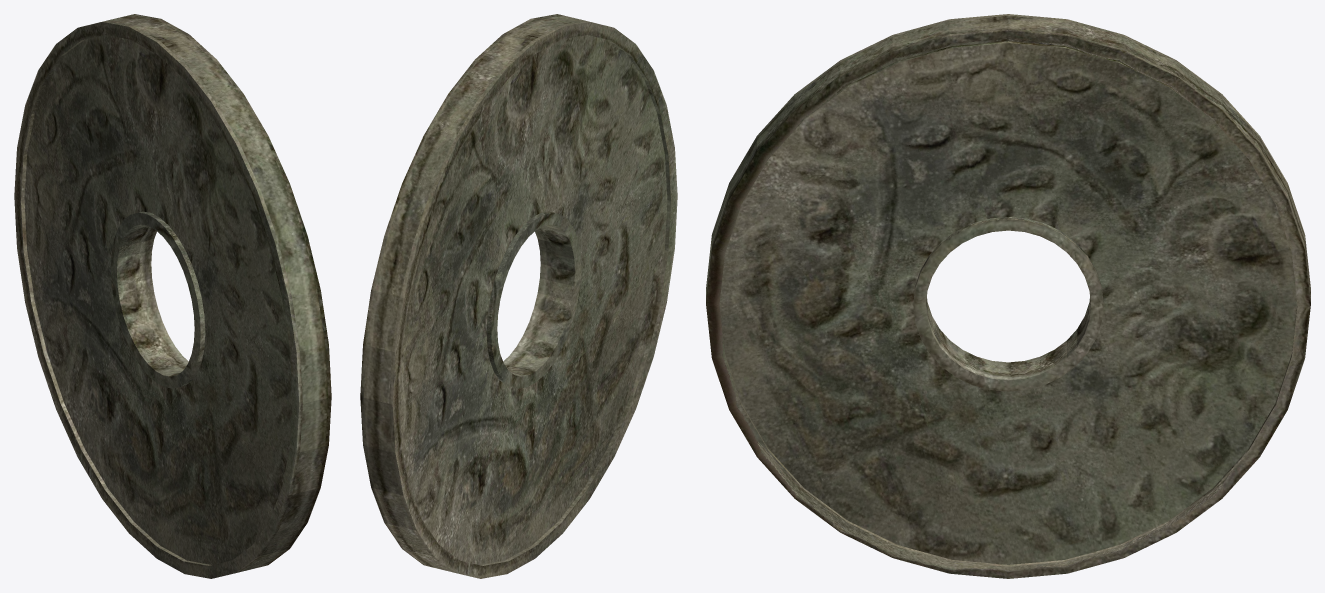
The model's file is coin.fbx.
3 renders of one model, left to right at view 1: azimuth 30°, elevation 25°; view 2: azimuth 150°, elevation 25°; view 3: azimuth 270°, elevation 25°, orthographic. The views are drawn at different scales.
Parts seen in each view (by area): view 1: Circle, Circle.001, Circle.002; view 2: Circle, Circle.001, Circle.002; view 3: Circle, Circle.001, Circle.002.
Part boxes in pixels (<box>): Circle: <box>21,35,292,565</box>; Circle.001: <box>14,14,331,578</box>; Circle.002: <box>110,211,205,388</box>; Circle: <box>399,35,670,565</box>; Circle.001: <box>360,14,677,578</box>; Circle.002: <box>486,211,581,388</box>; Circle: <box>719,38,1297,566</box>; Circle.001: <box>706,14,1310,578</box>; Circle.002: <box>913,217,1103,391</box>.
Bounding box in the file's own units: 5.85 × 83.64 × 83.64.
Materials: 3 (3 with a texture image).
